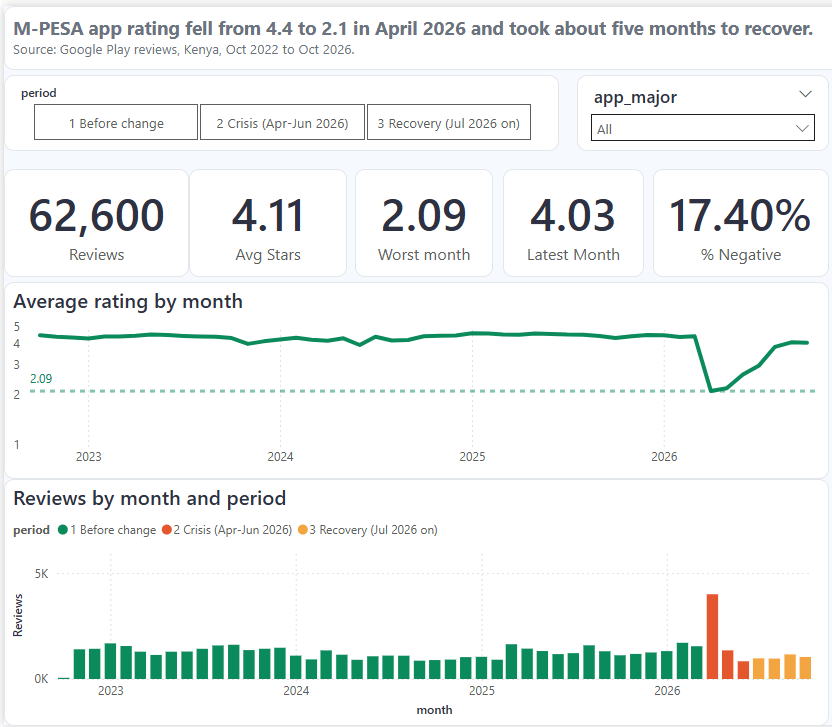

This screenshot's page, from the dashboard's own definition file:
{"tool":"powerbi","page":{"name":"Page 1","canvas":[1280,720],"ordinal":0},"visuals":[{"type":"card","fields":{"Values":["reviews_fact.Reviews"]},"box":[0,163,185,108],"z":0},{"type":"card","fields":{"Values":["reviews_fact.Avg Stars"]},"box":[185,163,158,108],"z":1000},{"type":"card","fields":{"Values":["reviews_fact.% Negative"]},"box":[649,163,176,108],"z":2000},{"type":"lineChart","title":"Average rating by month","fields":{"Y":["reviews_fact.Avg Stars"],"Category":["reviews_fact.month"]},"box":[0,276,825,197],"z":3000},{"type":"columnChart","title":"Reviews by month and period","fields":{"Category":["reviews_fact.month"],"Y":["reviews_fact.Reviews"],"Series":["reviews_fact.period"]},"box":[0,473,825,247],"z":4000},{"type":"textbox","box":[0,0,843,64],"z":5000},{"type":"slicer","fields":{"Values":["reviews_fact.period"]},"box":[0,69,555,76],"z":6000},{"type":"slicer","fields":{"Values":["reviews_fact.app_major"]},"box":[573,69,252,76],"z":7000},{"type":"card","fields":{"Values":["reviews_fact.Latest Month Rating"]},"box":[499,163,141,108],"z":8000},{"type":"card","fields":{"Values":["reviews_fact.Lowest Month Rating"]},"box":[351,163,138,108],"z":9000}]}

Visuals, with their boxes on the page's 1280x720 design canvas (x1, y1, x2, y2). These are canvas units, not pixel positions in the 832x727 screenshot, which may show the page scaled, cropped or inside an application window:
card - reviews_fact.Reviews: x1=0 y1=163 x2=185 y2=271
card - reviews_fact.Avg Stars: x1=185 y1=163 x2=343 y2=271
card - reviews_fact.% Negative: x1=649 y1=163 x2=825 y2=271
"Average rating by month" lineChart: x1=0 y1=276 x2=825 y2=473
"Reviews by month and period" columnChart: x1=0 y1=473 x2=825 y2=720
textbox: x1=0 y1=0 x2=843 y2=64
slicer - reviews_fact.period: x1=0 y1=69 x2=555 y2=145
slicer - reviews_fact.app_major: x1=573 y1=69 x2=825 y2=145
card - reviews_fact.Latest Month Rating: x1=499 y1=163 x2=640 y2=271
card - reviews_fact.Lowest Month Rating: x1=351 y1=163 x2=489 y2=271
